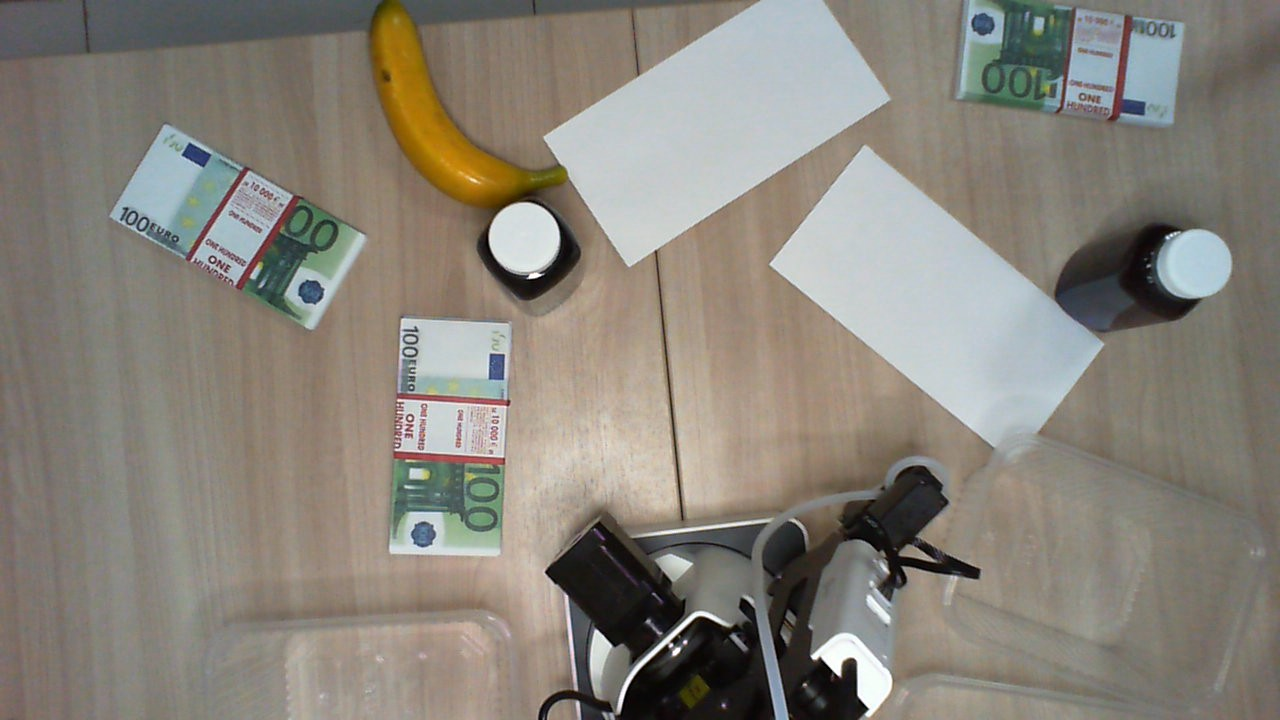banana: (366, 1, 569, 210)
bottle: (1058, 224, 1232, 334), (477, 197, 583, 317)
convert: (768, 144, 1106, 462), (545, 1, 888, 267)
money: (108, 123, 367, 331), (387, 317, 513, 558), (952, 1, 1185, 130)
